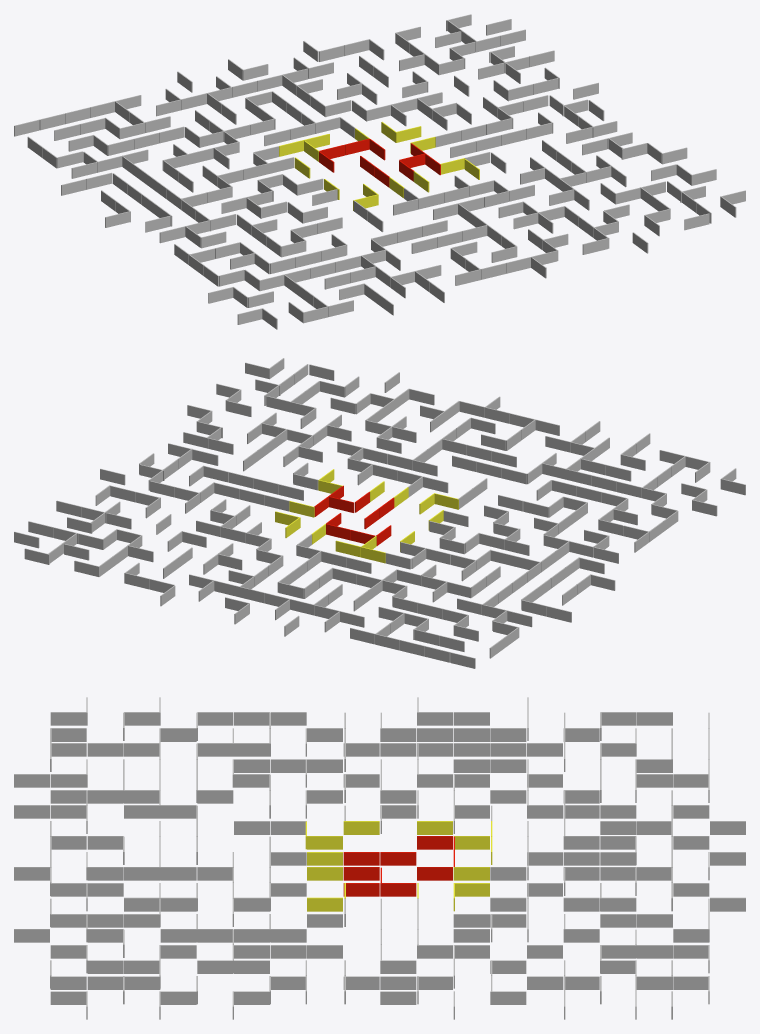
Rendered from evaluation_maze.obj.
The picture shows the model from 3 angles, top to bottom: view 1: azimuth 30°, elevation 25°; view 2: azimuth 150°, elevation 25°; view 3: azimuth 270°, elevation 25°; orthographic projection. The views are drawn at different scales.
Visible parts, largest first — view 1: Plane.622; view 2: Plane.622; view 3: Plane.622.
Boxes of the visible parts, box(x1,y1,x2,y2) form: Plane.622: box(14, 14, 745, 329); Plane.622: box(14, 358, 745, 668); Plane.622: box(14, 697, 745, 1019).
Bounding box in the file's own units: 5.07 × 0.1 × 5.07.
